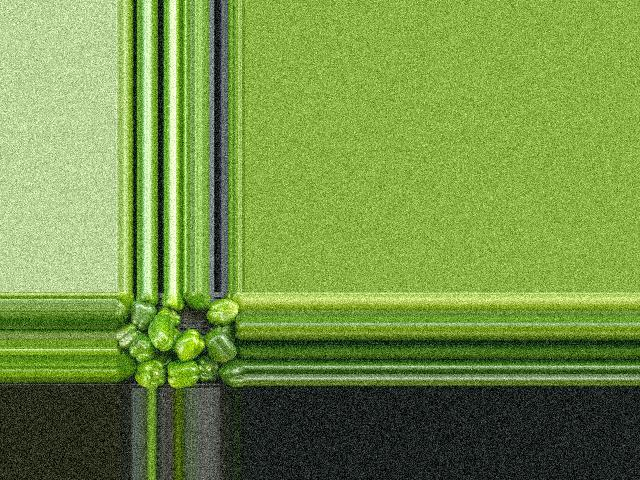bell_pepper: (115, 347, 136, 374)
